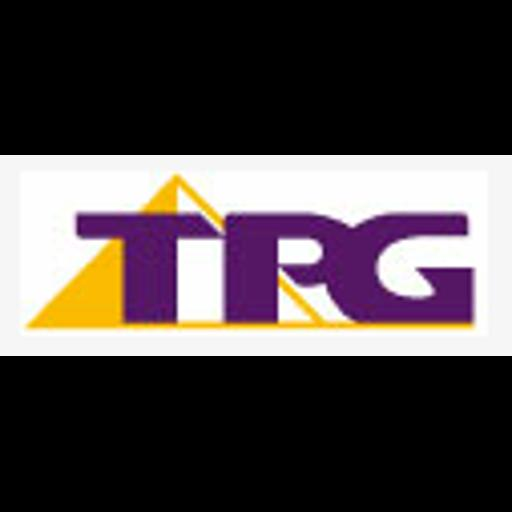TPG Telecom: (0, 155, 512, 356)
